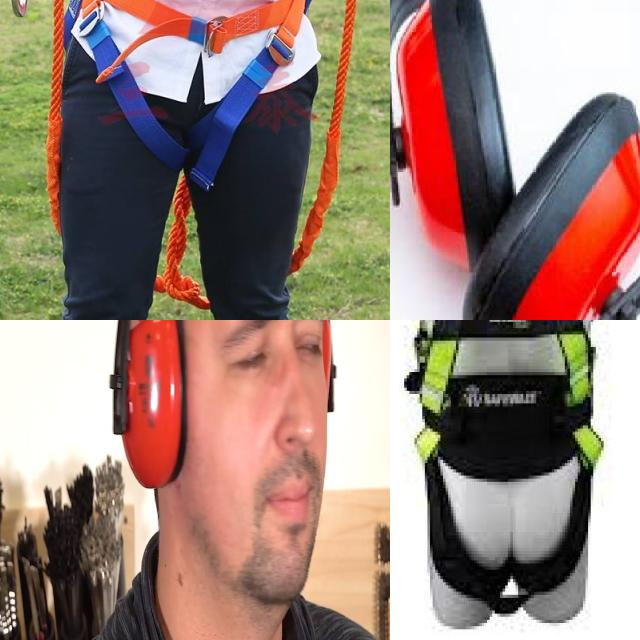Ear-protection: (390, 0, 640, 320), (109, 320, 338, 602)
Harness: (418, 320, 604, 613), (58, 0, 321, 205)
